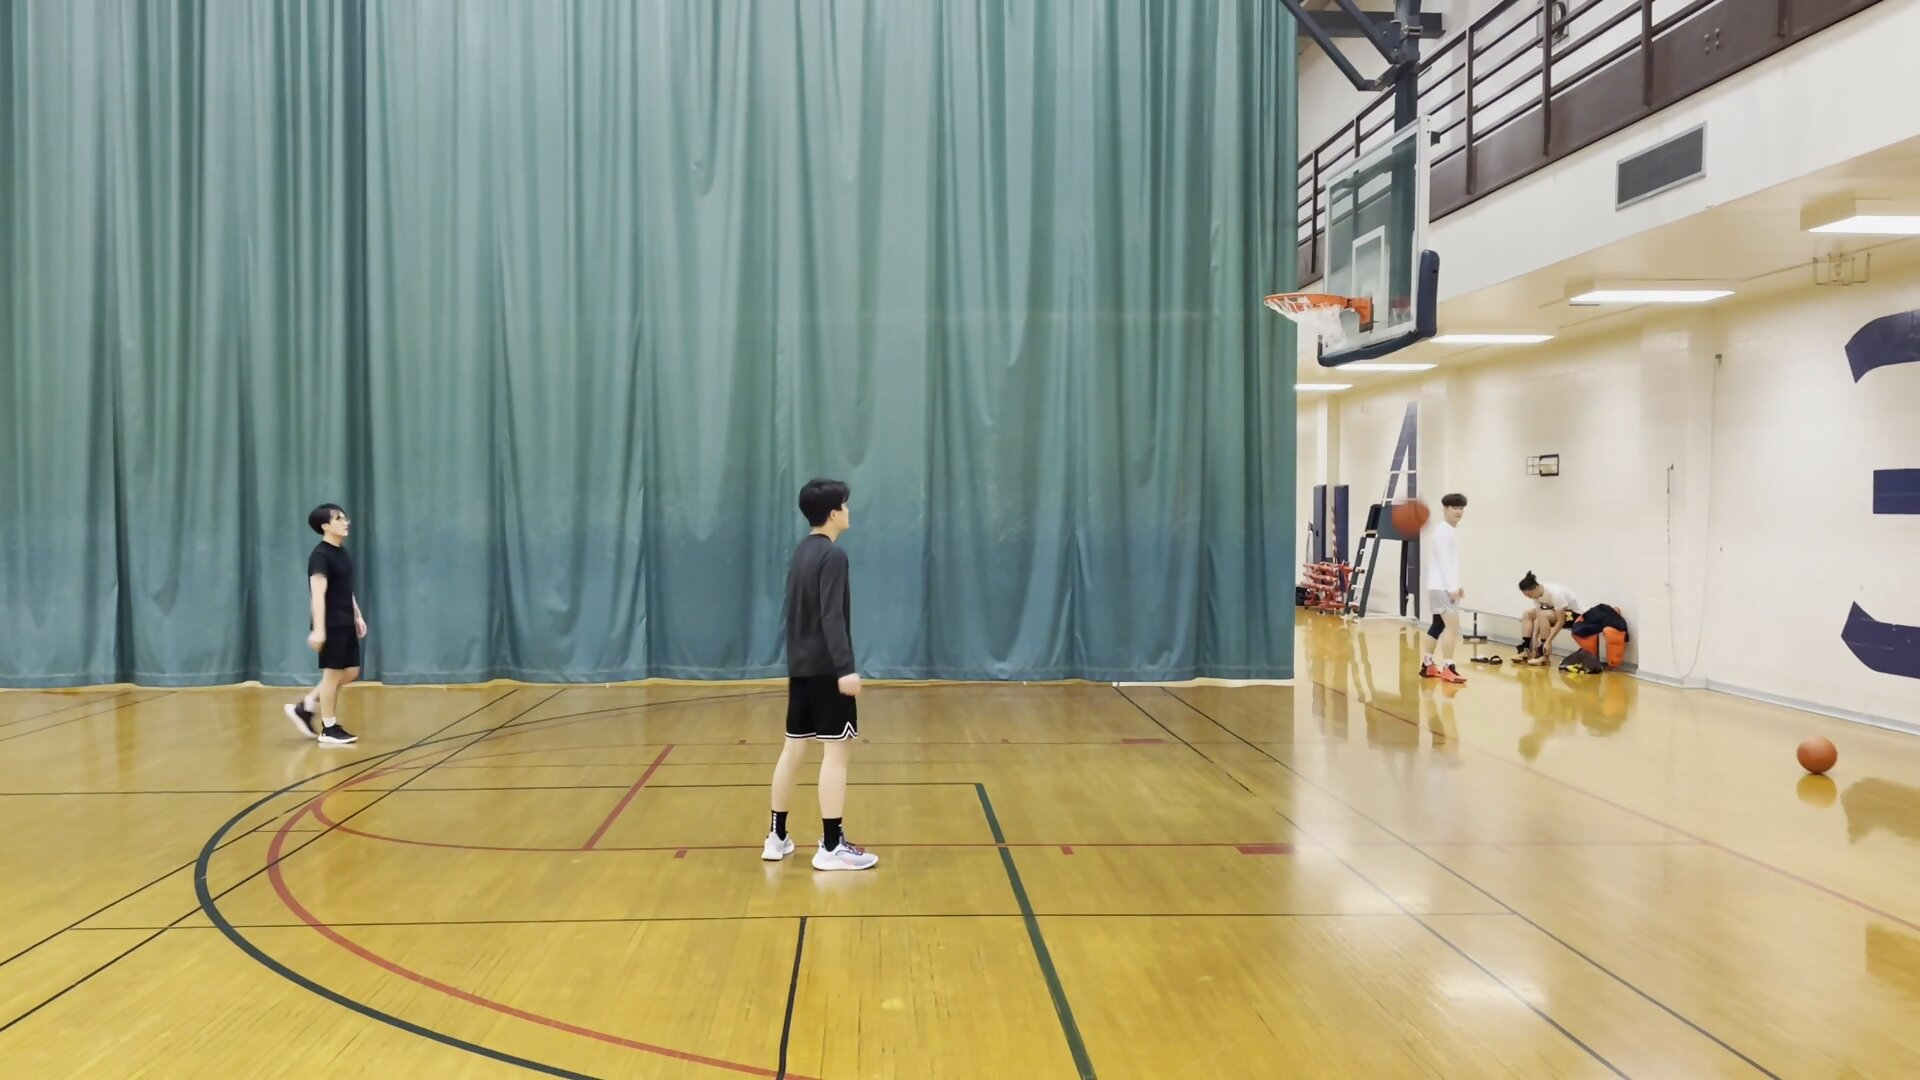ball: (1796, 735, 1840, 777), (1392, 495, 1433, 539)
net: (1303, 324, 1351, 354)
player: (764, 474, 886, 877), (287, 493, 368, 750), (1421, 491, 1478, 689), (1514, 563, 1589, 667)
rim: (1260, 289, 1353, 314)
